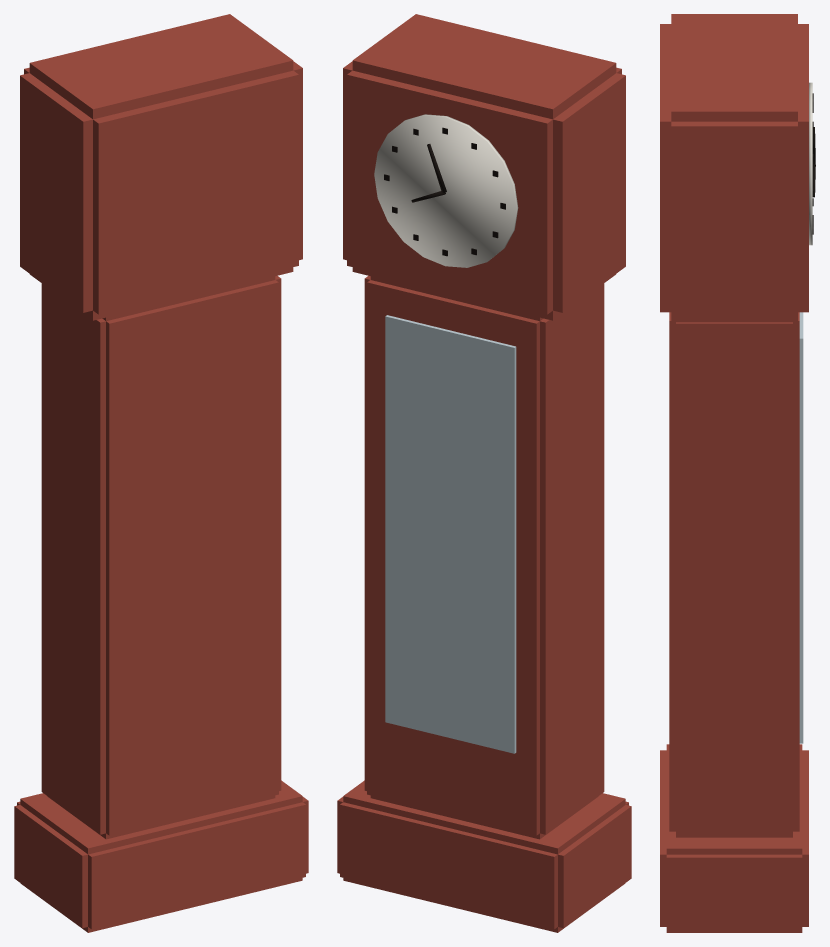
Rendered from rich_mahogany_clock_v0.glb.
3 renders of one model, left to right at view 1: azimuth 30°, elevation 25°; view 2: azimuth 150°, elevation 25°; view 3: azimuth 270°, elevation 25°, orthographic.
Visible parts, largest first — view 1: rich_mahogany_clock_v0; view 2: rich_mahogany_clock_v0; view 3: rich_mahogany_clock_v0.
Boxes of the visible parts, x1,y1,x2,y2 form: rich_mahogany_clock_v0: (14,14,308,932); rich_mahogany_clock_v0: (337,14,631,932); rich_mahogany_clock_v0: (660,14,815,932).
Size of the model in its own units: 0.7 by 2.42 by 0.4185.
